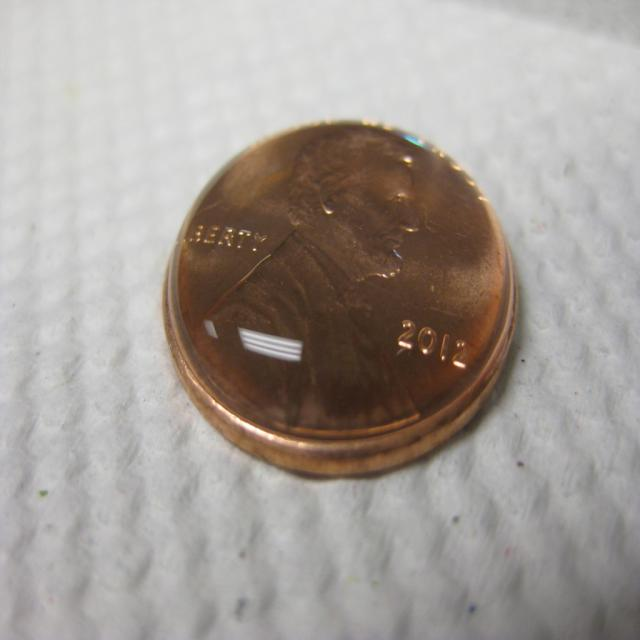Coin: (162, 116, 514, 477)
